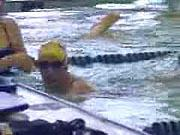human: (34, 42, 88, 98)
